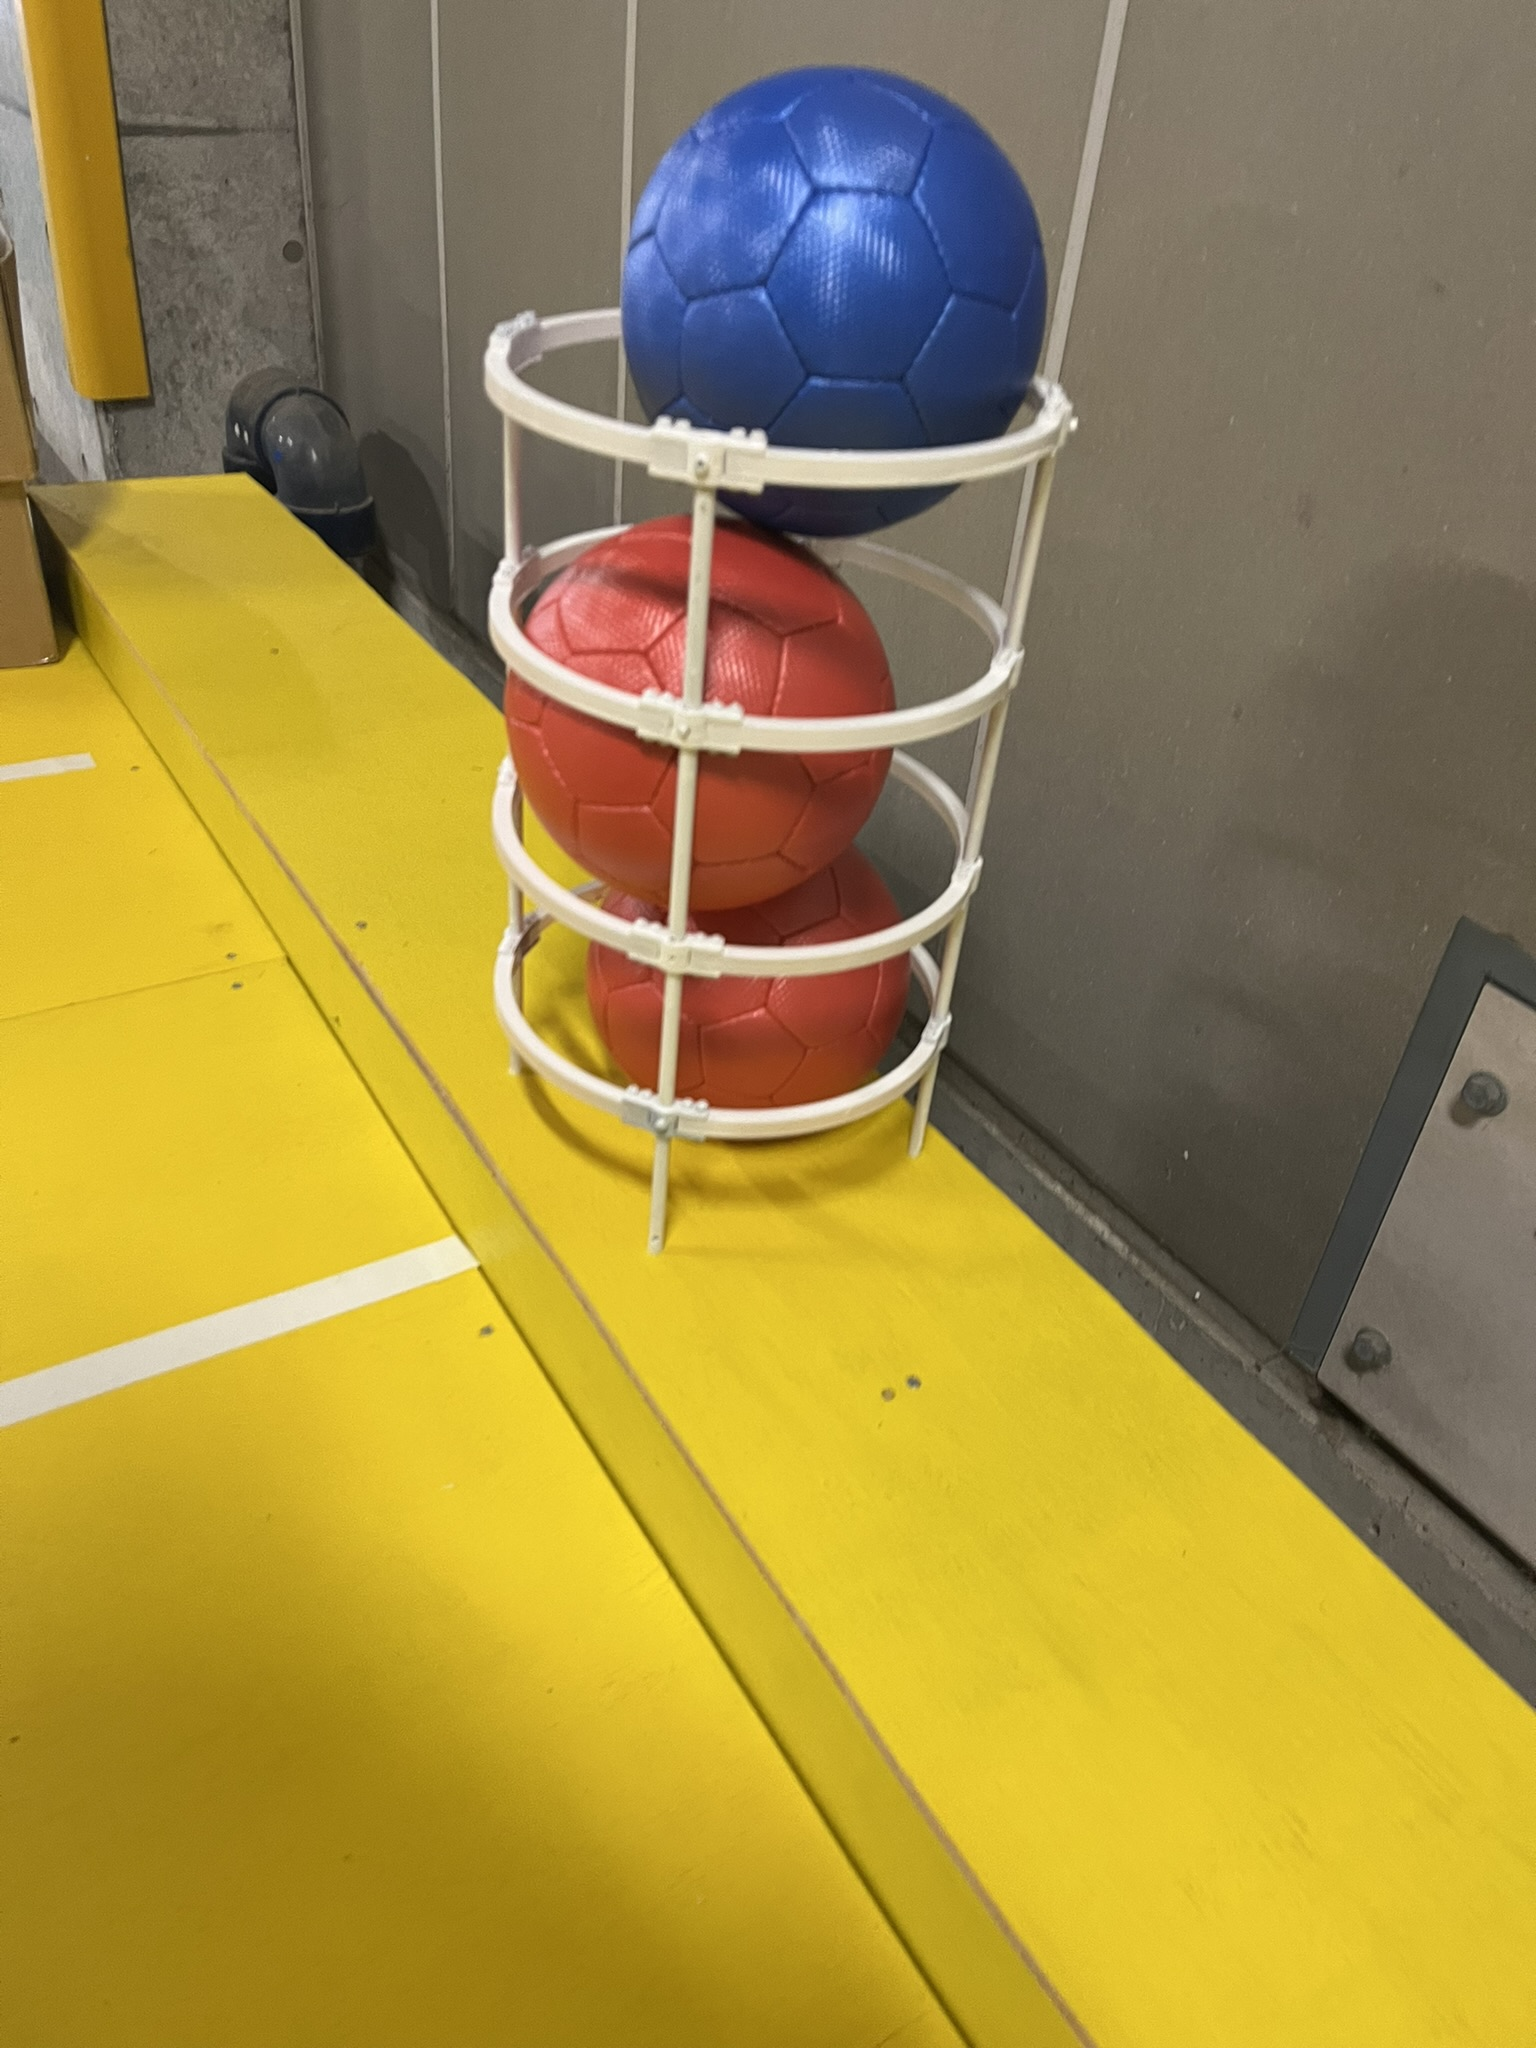blue: (608, 63, 1063, 550)
